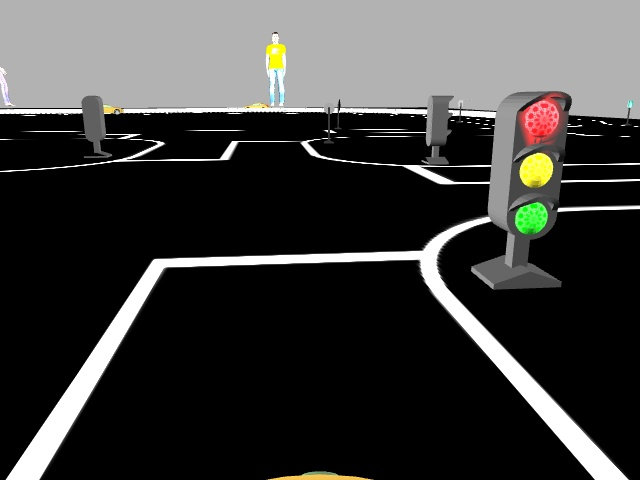TrafficLight: (486, 86, 571, 239)
